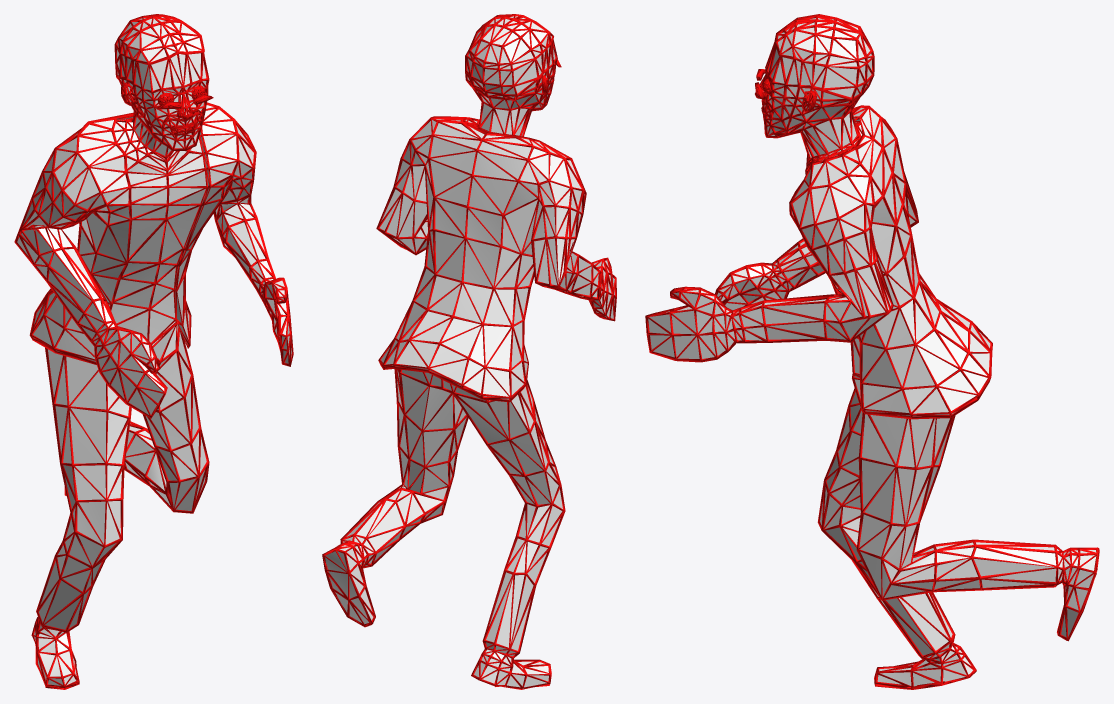
File: elegantRun_000011.obj
The picture shows the model from 3 angles, left to right: view 1: azimuth 30°, elevation 25°; view 2: azimuth 150°, elevation 25°; view 3: azimuth 270°, elevation 25°; orthographic projection. The views are drawn at different scales.
Parts seen in each view (by area): view 1: BaseHuman_Cylinder.002; view 2: BaseHuman_Cylinder.002; view 3: BaseHuman_Cylinder.002.
Boxes of the visible parts, left/top/right/bottom form: BaseHuman_Cylinder.002: left=14, top=14, right=293, bottom=689; BaseHuman_Cylinder.002: left=322, top=14, right=616, bottom=689; BaseHuman_Cylinder.002: left=645, top=14, right=1099, bottom=689.
Bounding box in the file's own units: 1.55 × 4.65 × 2.74.
